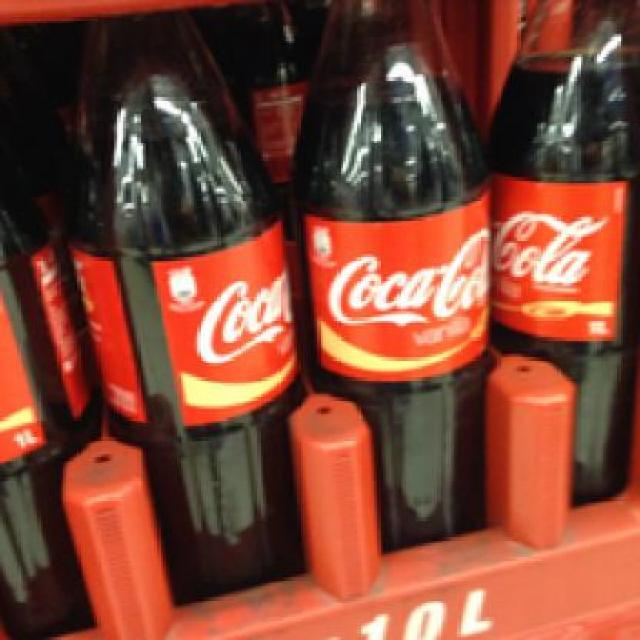Soda: (63, 6, 300, 603), (288, 2, 488, 552), (483, 0, 626, 503)
